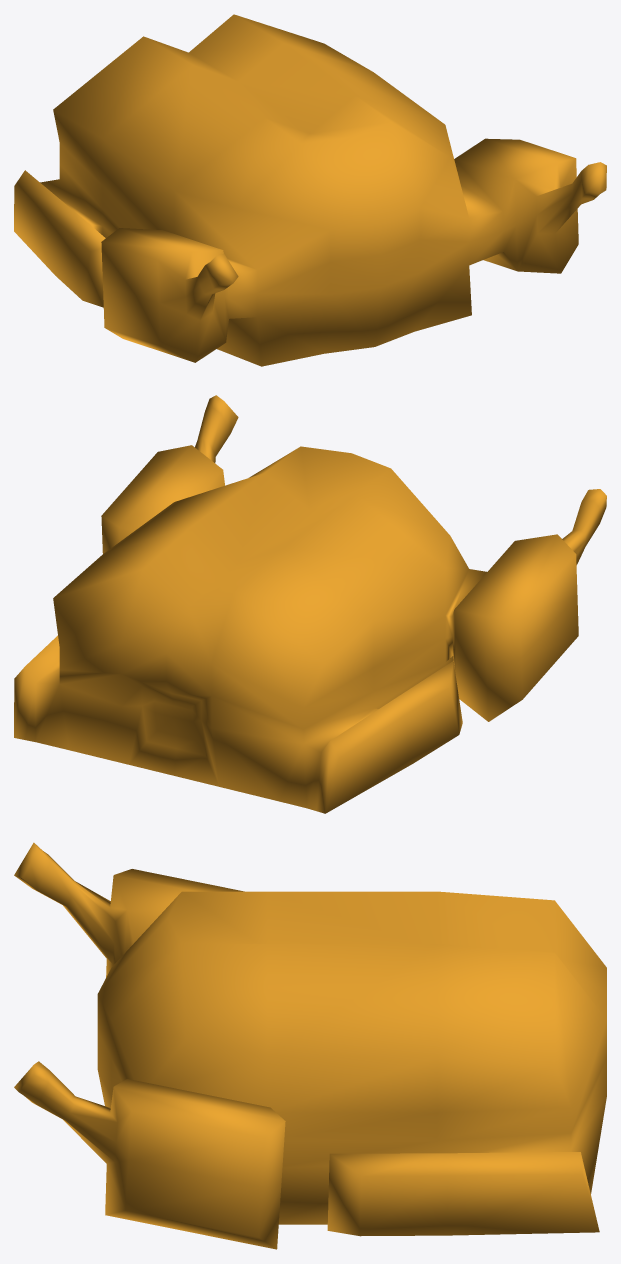
Rendered from turkey.fbx.
3 views of the same model, one above another, from view 1: azimuth 30°, elevation 25°; view 2: azimuth 150°, elevation 25°; view 3: azimuth 270°, elevation 25° (orthographic). The views are drawn at different scales.
Parts seen in each view (by area): view 1: Cube; view 2: Cube; view 3: Cube.
Boxes of the visible parts, x1,y1,x2,y2 form: Cube: [14, 14, 606, 366]; Cube: [14, 395, 606, 813]; Cube: [14, 842, 606, 1249].
Size of the model in its own units: 710 by 313 by 735.
